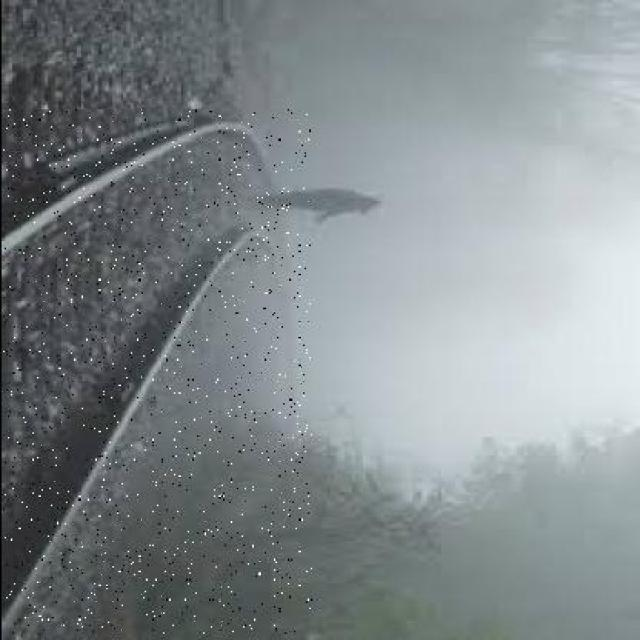danger: (215, 182, 391, 232)
rail: (2, 110, 310, 634)
